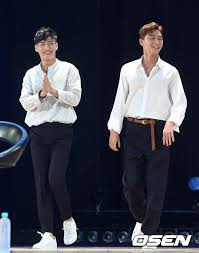F_belt: (120, 114, 173, 151)
